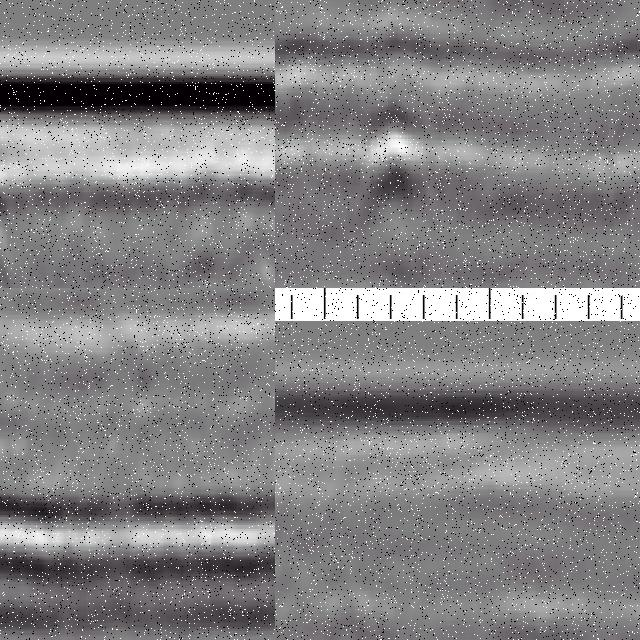crack: (1, 168, 16, 289)
loose: (157, 174, 276, 289)
